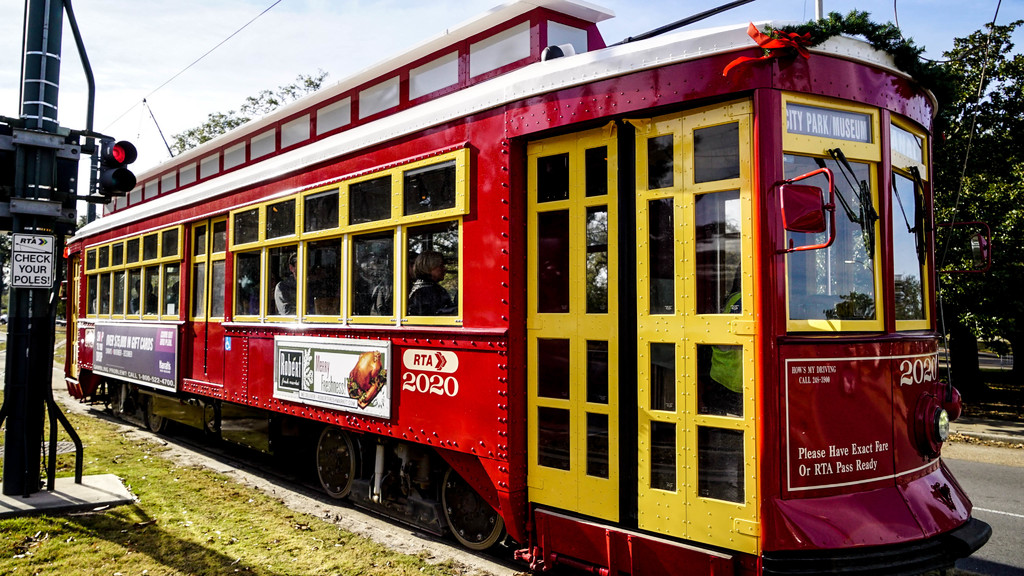Tree: (934, 5, 1024, 418), (167, 68, 327, 154)
